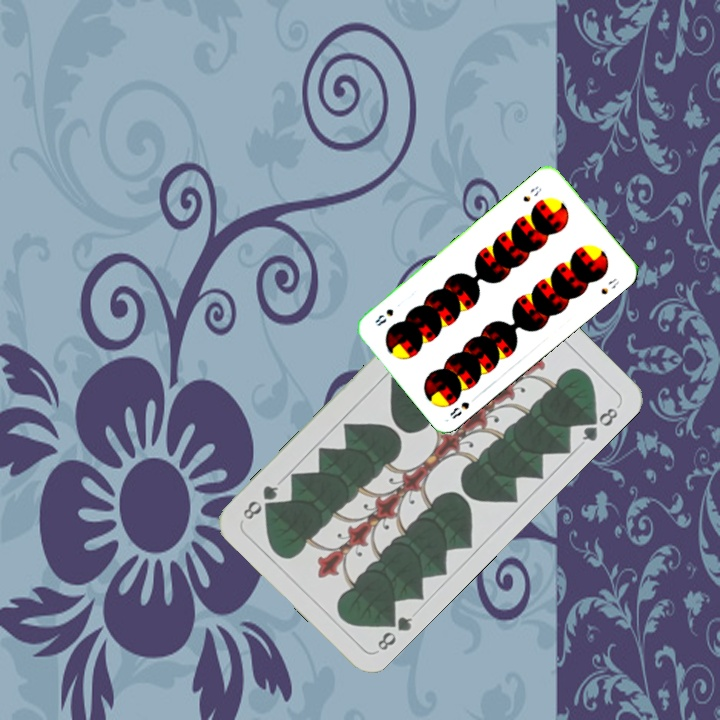G8: (372, 608, 416, 655)
S8: (446, 392, 480, 421), (519, 182, 544, 205)
